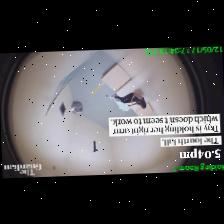person: (110, 93, 145, 107)
